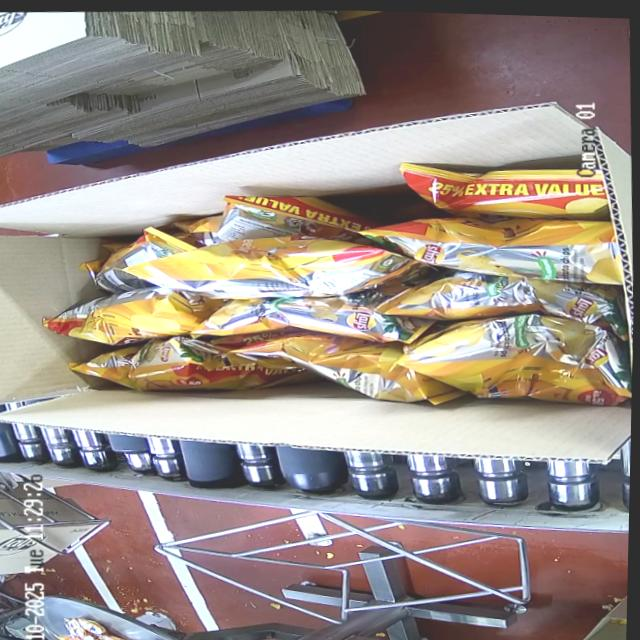FRENCH_CHEESE: (47, 145, 627, 433)
